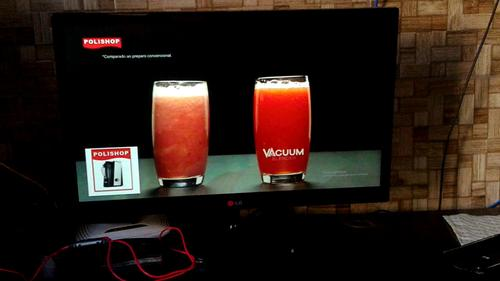Polishop #1: (84, 144, 140, 197)
